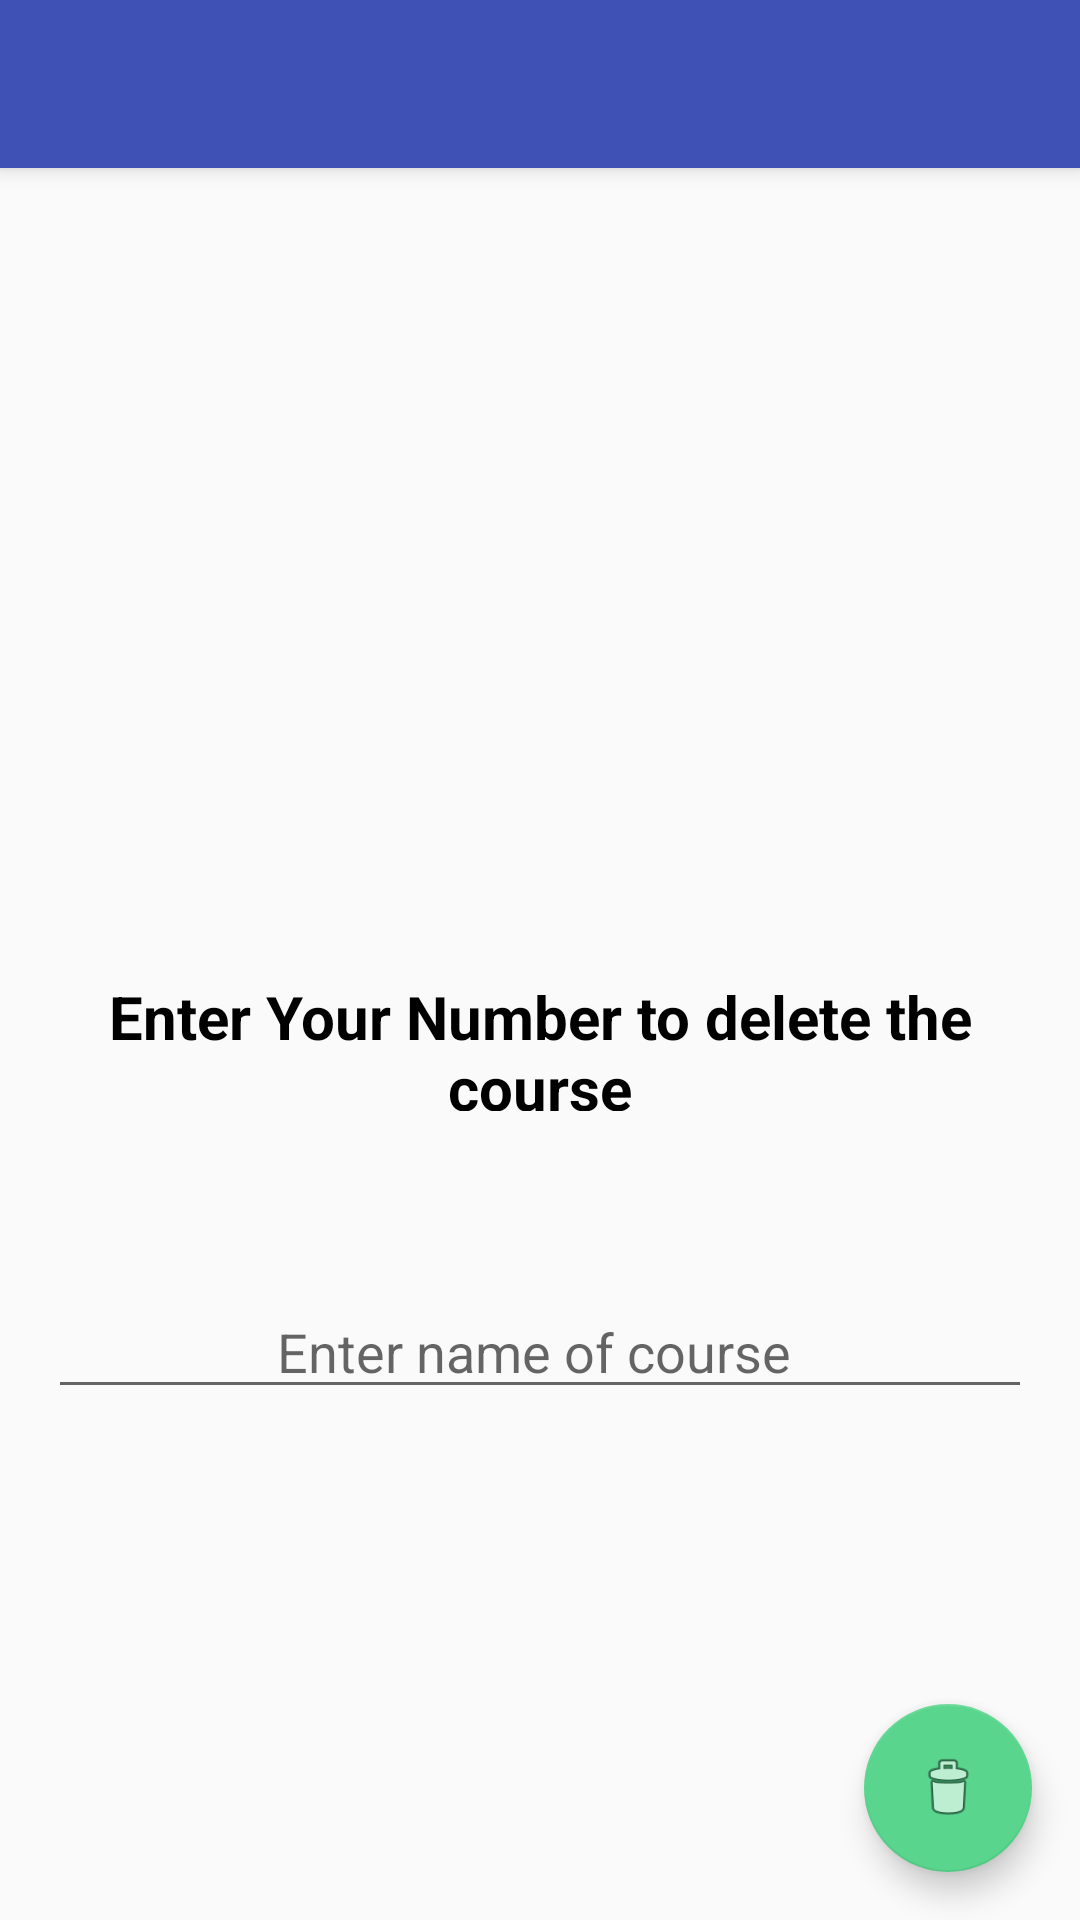

Named icons in this screenshot (1080*1920) and their centers, (x=x, y=y):
delete: (x=948, y=1788)
